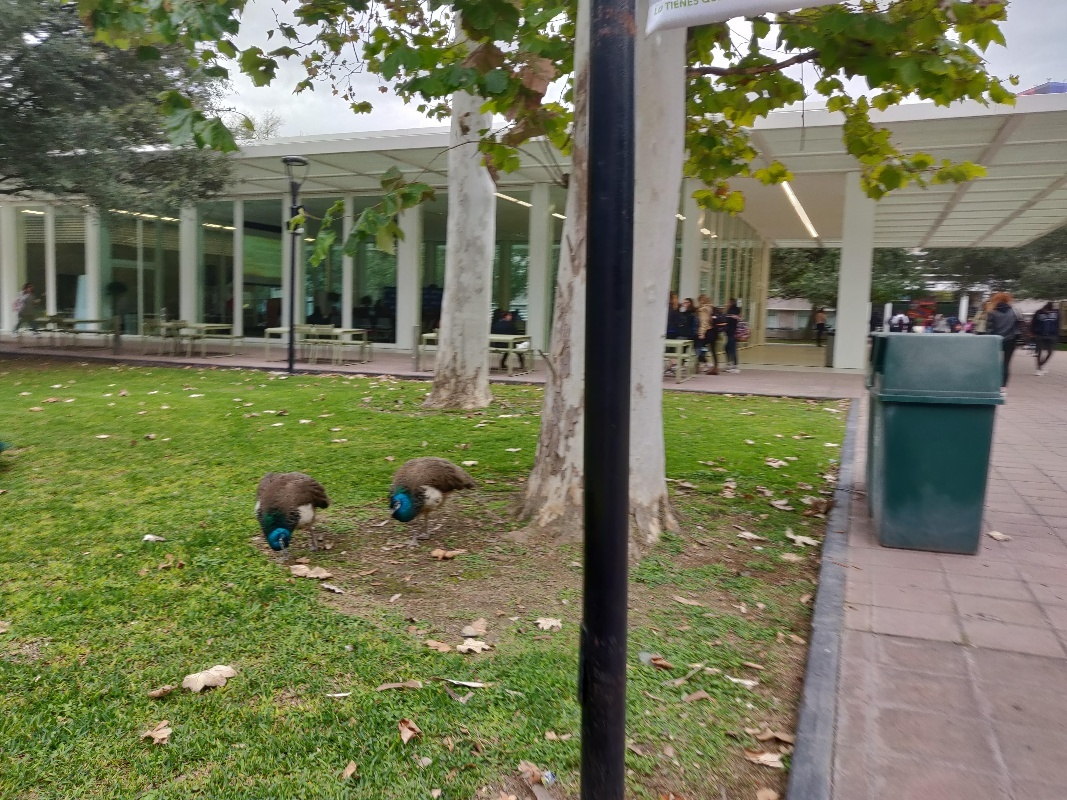pavoreal: (375, 455, 464, 533), (254, 471, 328, 559)
